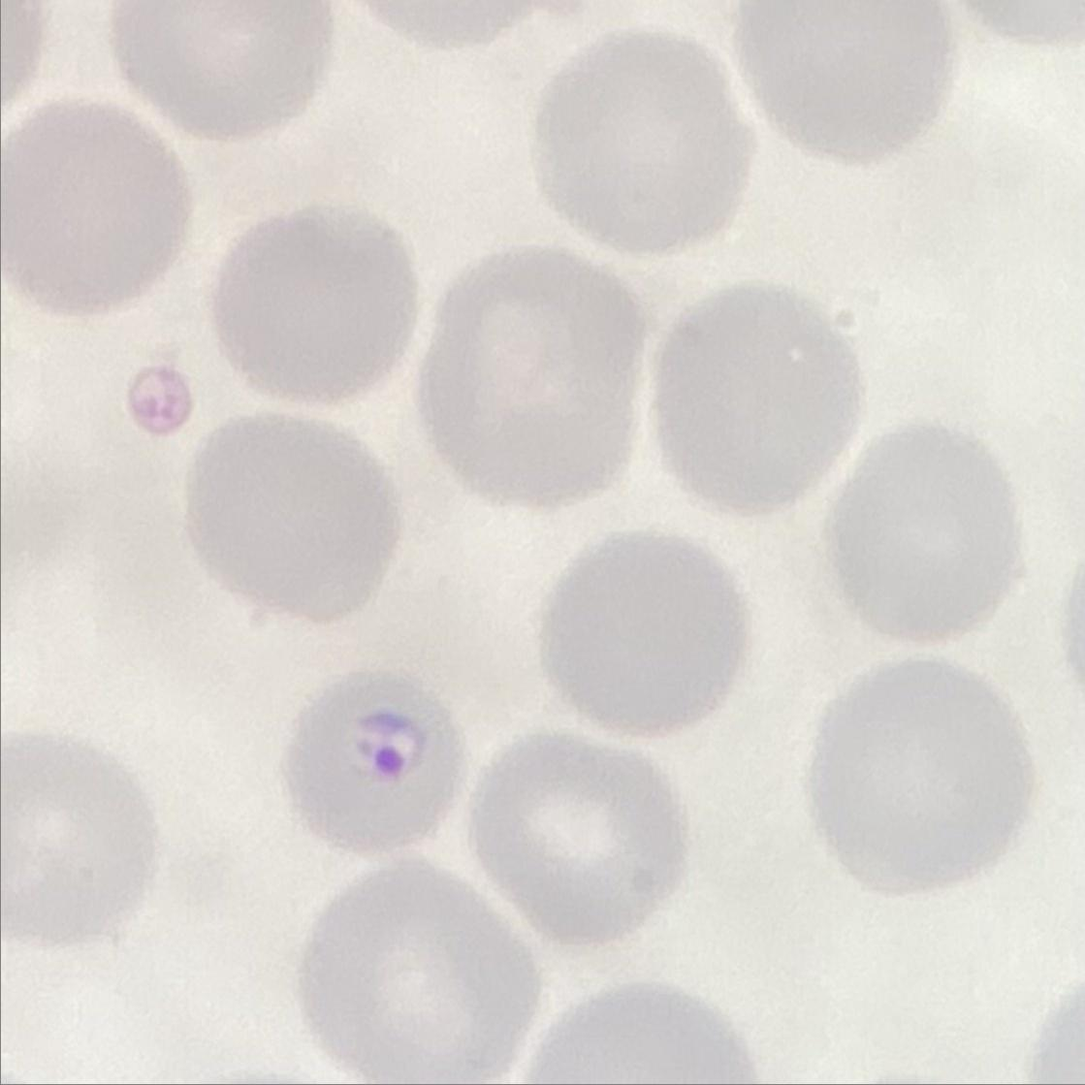Infected: (275, 667, 463, 862)
Uninfected: (414, 247, 644, 519), (808, 654, 1030, 896), (459, 738, 696, 948), (659, 282, 862, 527), (297, 867, 524, 1085), (524, 40, 748, 260), (187, 415, 392, 629), (821, 421, 1013, 646), (546, 528, 743, 743), (0, 113, 200, 324), (213, 201, 407, 417), (739, 0, 953, 166), (0, 725, 149, 959), (114, 0, 336, 137)
